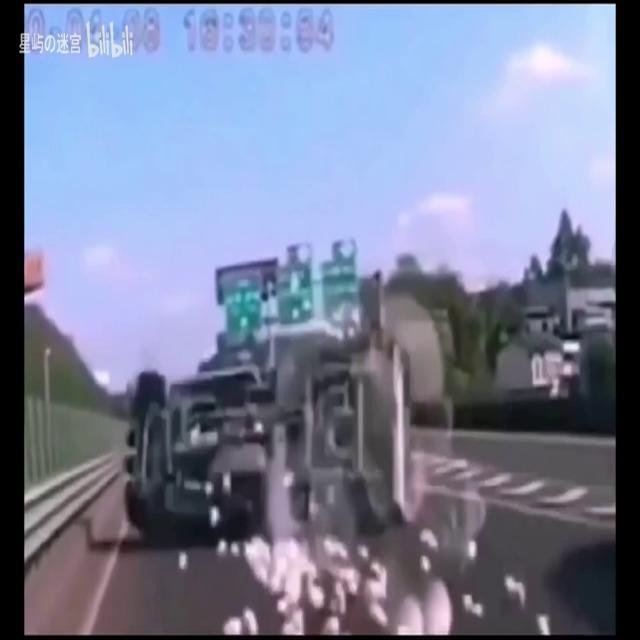accident: (118, 337, 420, 551)
